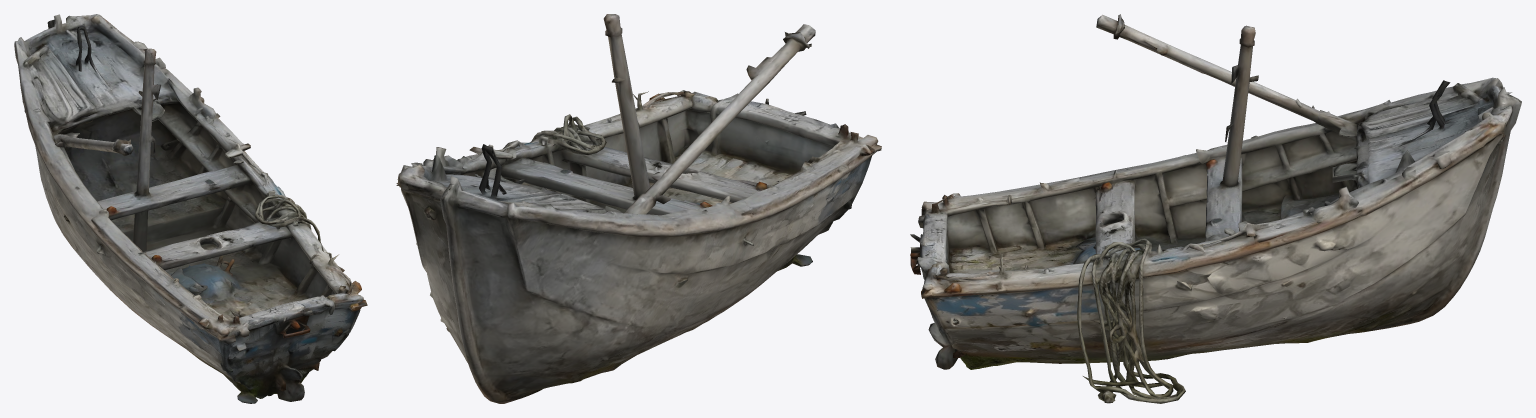
The model's file is fishing_boat.glb.
3 views of the same model, side by side, from view 1: azimuth 30°, elevation 25°; view 2: azimuth 150°, elevation 25°; view 3: azimuth 270°, elevation 25° (orthographic). The views are drawn at different scales.
Visible parts, largest first — view 1: Part; view 2: Part; view 3: Part.
Part boxes in pixels (box(x1,y1,x2,y2)): Part: box(14, 14, 367, 403); Part: box(396, 14, 881, 403); Part: box(910, 14, 1521, 403).
Size of the model in its own units: 2.92 by 3.6 by 6.02.
Materials: 1 (1 with a texture image).
